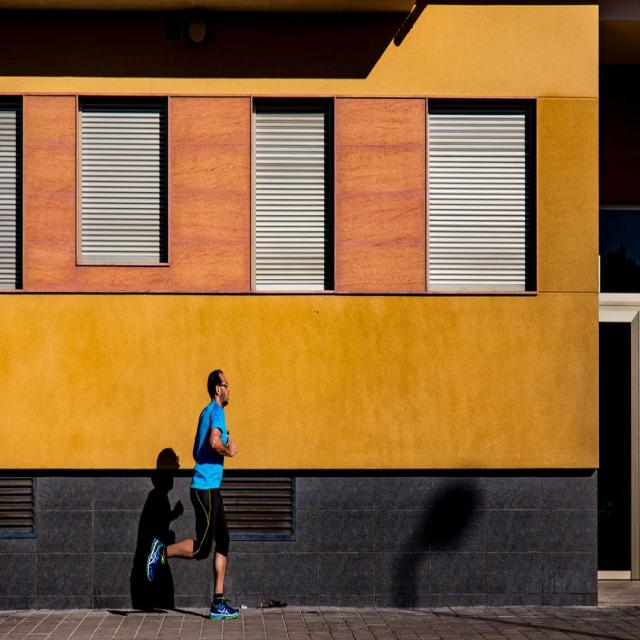running: (144, 363, 244, 622)
